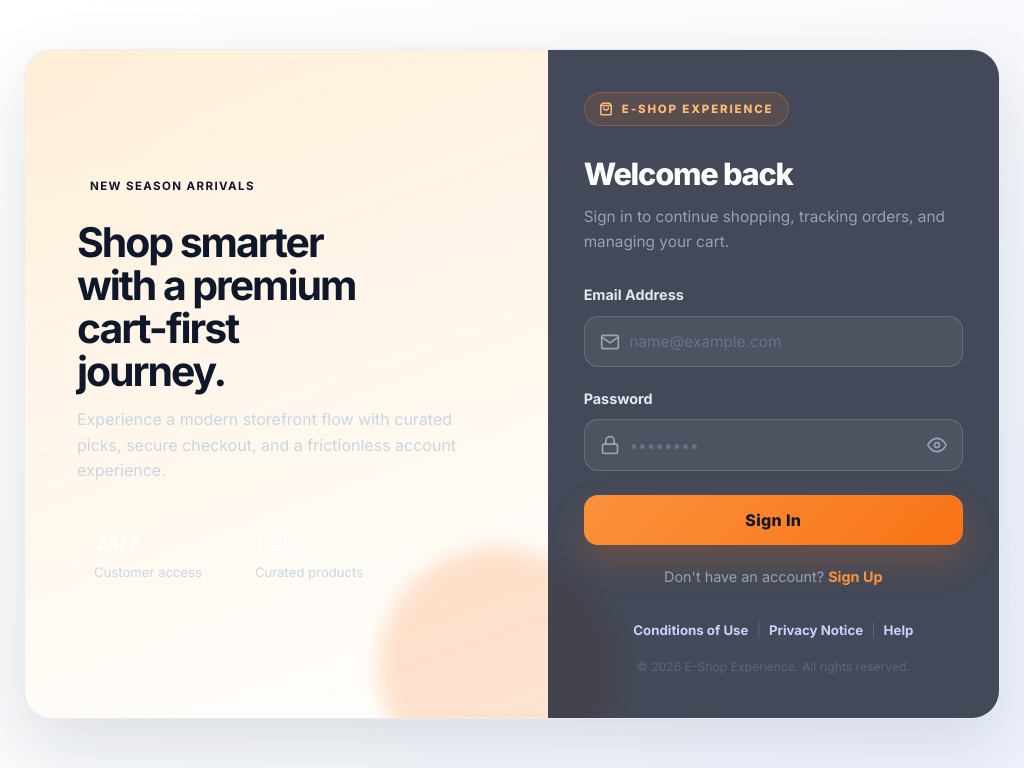
Login Page component tests › displays validation error if inputs are empty during submit
What coordinates should you click on to do the following:
click the button "Sign In"
I would click on:
 (773, 520)
Its box is [584,495,963,545].
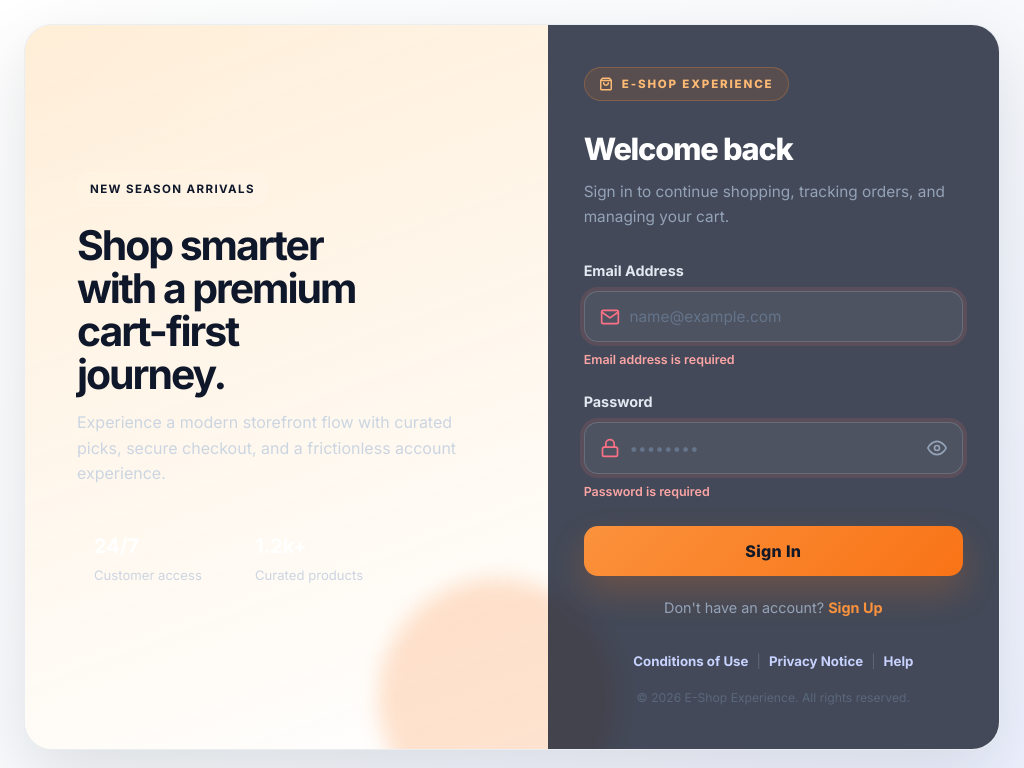
Expected: the text "Email address is required" is shown, [584,352,735,368]
Expected: the text "Password is required" is shown, [584,484,710,499]
